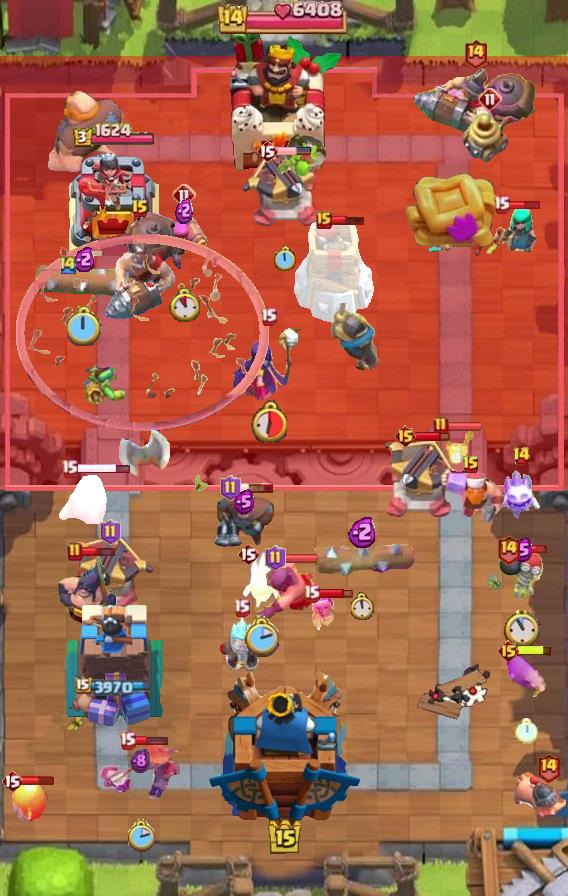axe: (118, 410, 172, 478)
bandit: (55, 472, 107, 524)
bar: (76, 462, 131, 475), (517, 644, 553, 657), (81, 545, 116, 558), (238, 482, 274, 494), (318, 587, 353, 599), (415, 430, 450, 442), (507, 199, 542, 211), (283, 553, 319, 564), (447, 421, 483, 432), (330, 215, 366, 226), (134, 735, 169, 746), (21, 775, 55, 786), (276, 146, 312, 156), (518, 544, 550, 554)
bar-level: (536, 752, 561, 783), (496, 534, 521, 565), (463, 38, 488, 69), (172, 183, 196, 207), (478, 87, 502, 111), (497, 639, 520, 663), (394, 424, 417, 448), (265, 545, 286, 571), (100, 519, 121, 545), (220, 475, 241, 501), (1, 769, 23, 793), (237, 542, 259, 566), (256, 139, 278, 163), (58, 254, 78, 275), (512, 446, 531, 466), (462, 455, 480, 475), (131, 199, 149, 219), (119, 731, 136, 750), (233, 598, 250, 617), (303, 584, 320, 603), (61, 459, 78, 478), (260, 307, 277, 326), (493, 195, 510, 214), (67, 542, 83, 562), (433, 416, 449, 436), (316, 211, 332, 229)
bomber: (496, 546, 548, 600)
clock: (250, 400, 287, 443), (243, 616, 279, 657), (504, 609, 540, 648), (67, 306, 102, 346), (169, 288, 200, 322), (126, 819, 155, 852), (351, 592, 375, 620), (273, 246, 296, 273), (515, 718, 538, 744)
elixir: (348, 515, 378, 548), (73, 246, 96, 272), (511, 537, 533, 563), (233, 489, 255, 515), (130, 748, 150, 774), (175, 197, 193, 224)
executioner: (55, 551, 117, 629), (254, 559, 320, 625)
firecracker: (160, 212, 208, 274)
goblin-ball: (275, 132, 329, 180)
hog: (500, 651, 552, 701)
hunter: (211, 487, 277, 549)
ice-spirit: (241, 551, 281, 609)
ice-spirit-evolution: (499, 466, 543, 520)
ice-wizard: (210, 615, 272, 675)
king-tower: (207, 669, 362, 826), (224, 23, 344, 181)
king-tower-bar: (217, 0, 351, 34)
knight: (330, 303, 381, 373)
lava-pup: (436, 425, 474, 467)
lumberjack: (438, 465, 504, 529)
phoenix-egg: (9, 780, 49, 824)
queen-tower: (62, 599, 167, 731), (69, 152, 159, 256)
rascal-girl: (491, 206, 539, 254)
royal-hog: (514, 772, 568, 822)
skeleton-evolution: (311, 589, 335, 633)
spear-goblin: (82, 363, 130, 405)
the-log: (312, 539, 415, 577), (34, 262, 134, 298)
tower-bar: (72, 122, 156, 149), (75, 676, 154, 696)
valkyrie-evolution: (100, 737, 180, 804)
witch: (230, 323, 306, 403)
zappy: (459, 109, 521, 165)
